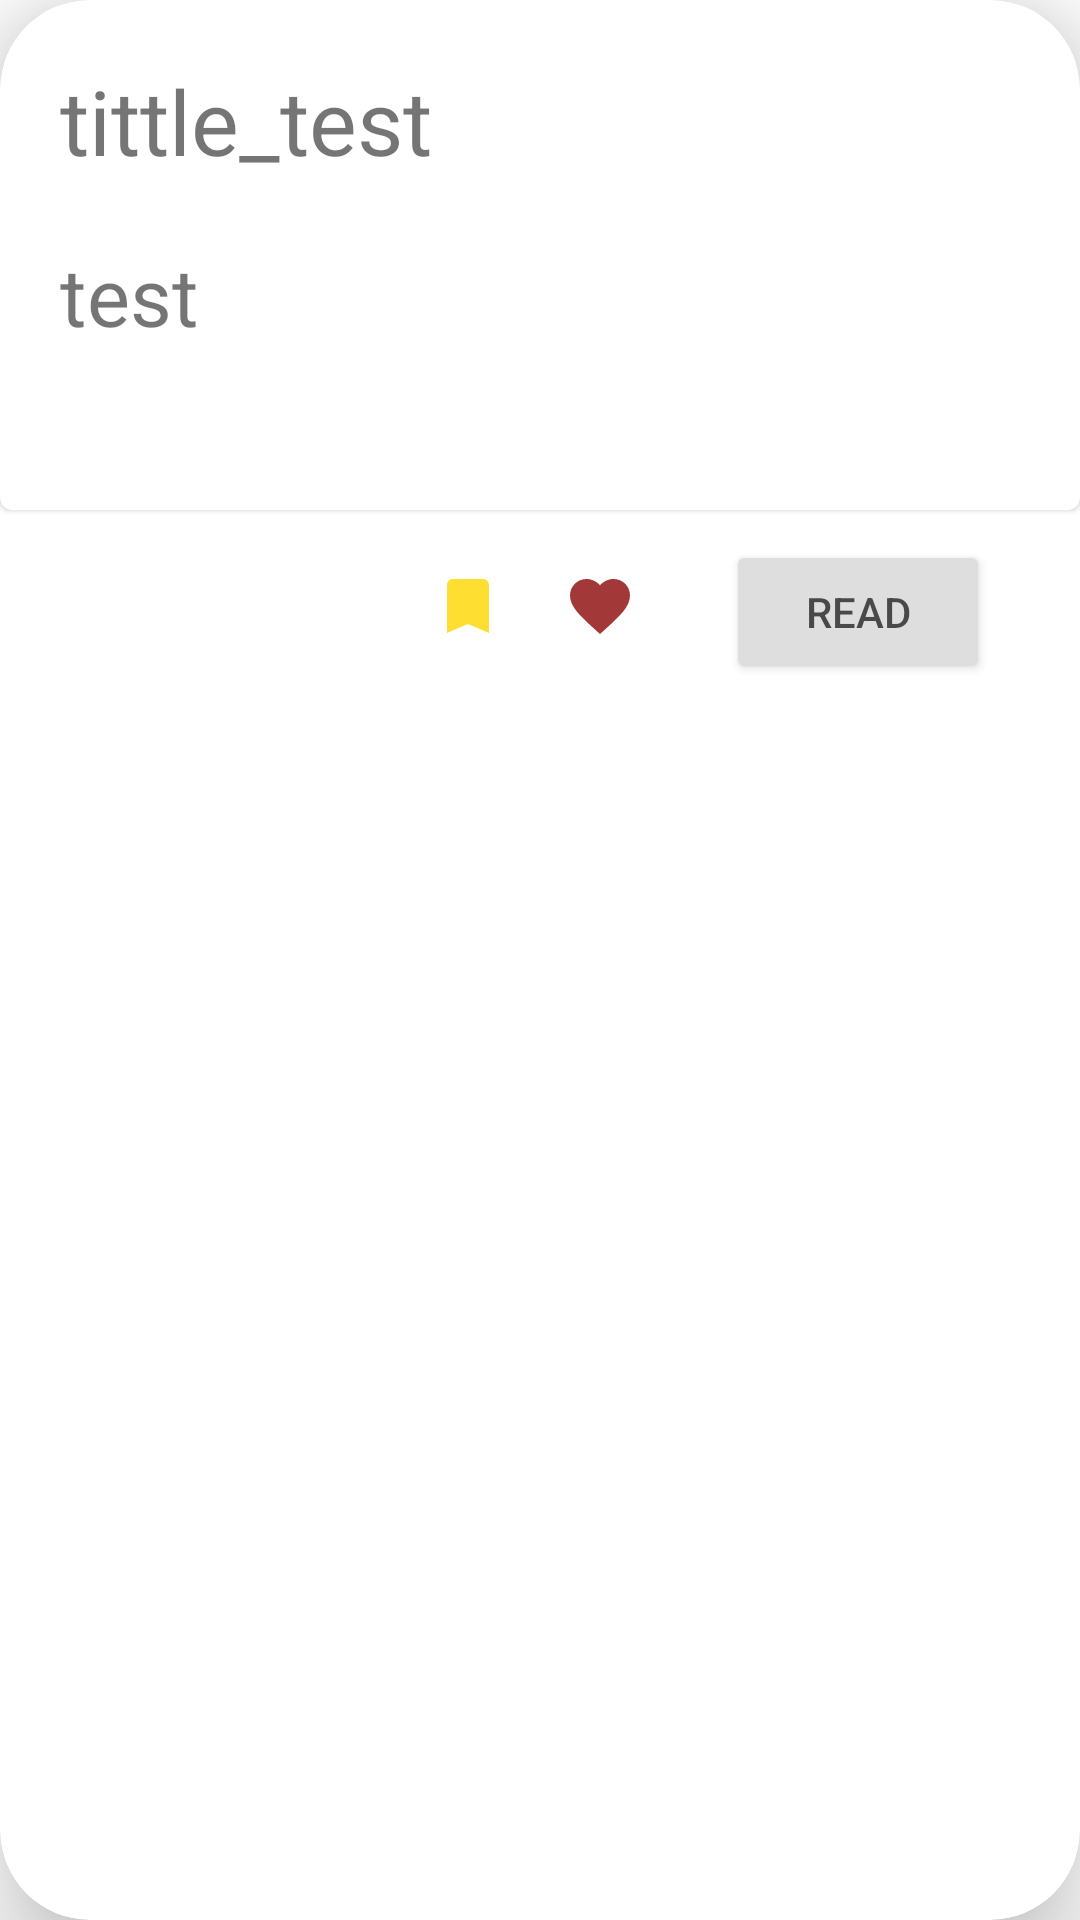

Locate icon controls on the screen. Image size 1080 × 1920, boxes as detection(x1, y1, x2, y2).
bookmark: detection(447, 579, 489, 633)
favorite like: detection(570, 579, 630, 634)
